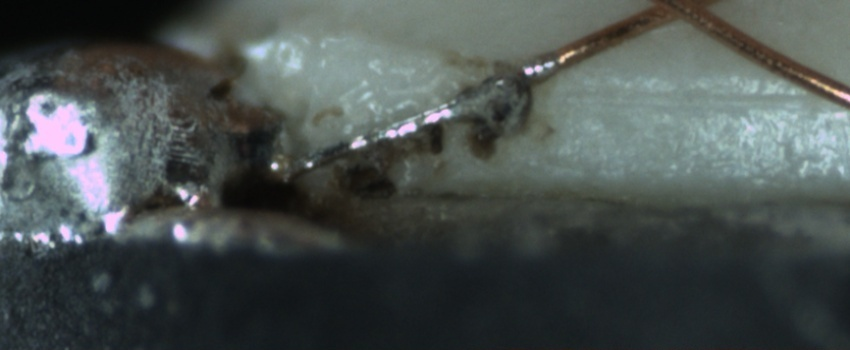CL: (636, 1, 727, 30)
DL: (572, 69, 849, 133)
TS: (280, 55, 557, 182)
TTCW: (297, 29, 604, 174)
